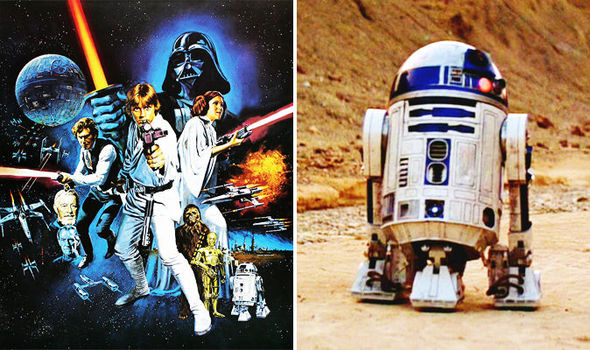r2d2: (349, 41, 544, 311)
